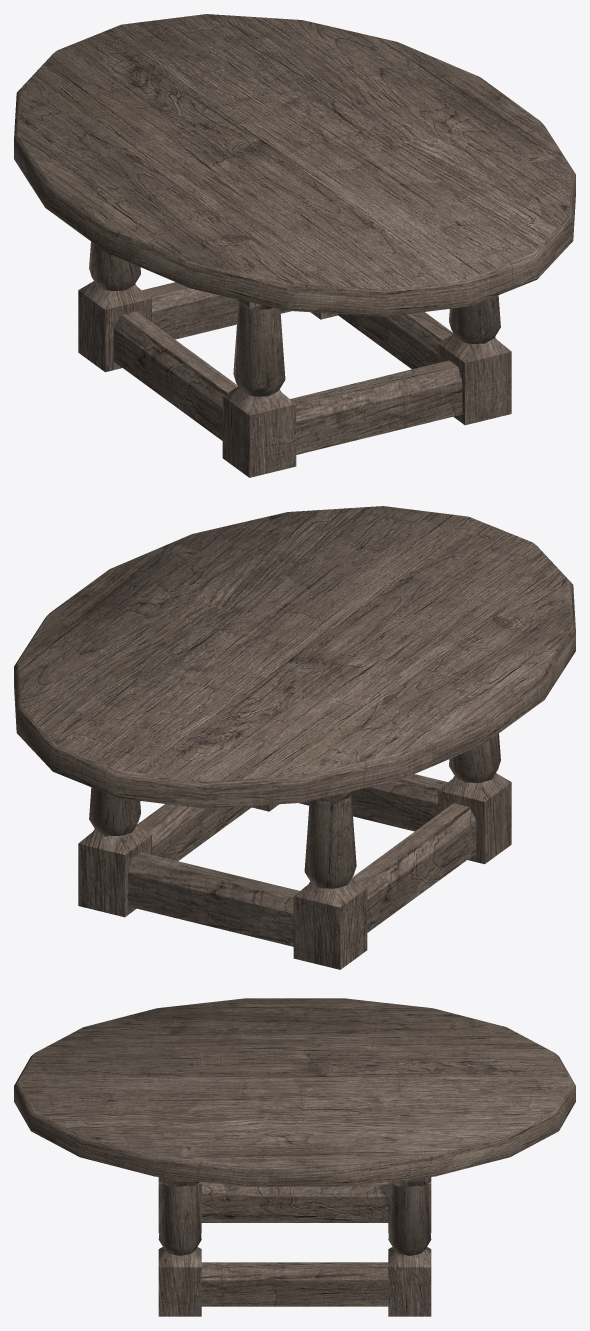
File: mw_table_small_04.FBX
3 renders of one model, top to bottom at view 1: azimuth 30°, elevation 25°; view 2: azimuth 150°, elevation 25°; view 3: azimuth 270°, elevation 25°, orthographic. The views are drawn at different scales.
Parts seen in each view (by area): view 1: mw_table_small_04; view 2: mw_table_small_04; view 3: mw_table_small_04.
Part boxes in pixels (x1,y1,x2,y2): mw_table_small_04: (14,14,575,477); mw_table_small_04: (14,506,575,969); mw_table_small_04: (14,998,575,1316).
Bounding box in the file's own units: 136 × 68.58 × 190.
